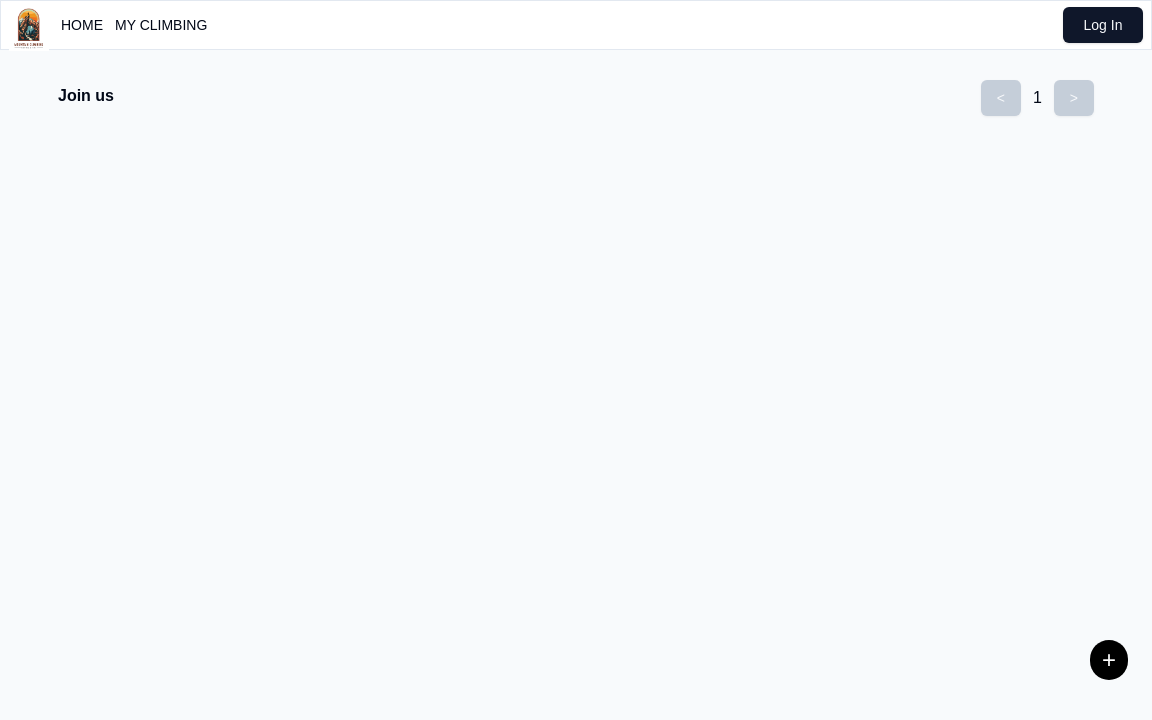
Test case: sign up fail › should show error with invalid email
Click the button "Log In" at (1103, 25), box x1=1063 y1=7 x2=1143 y2=43
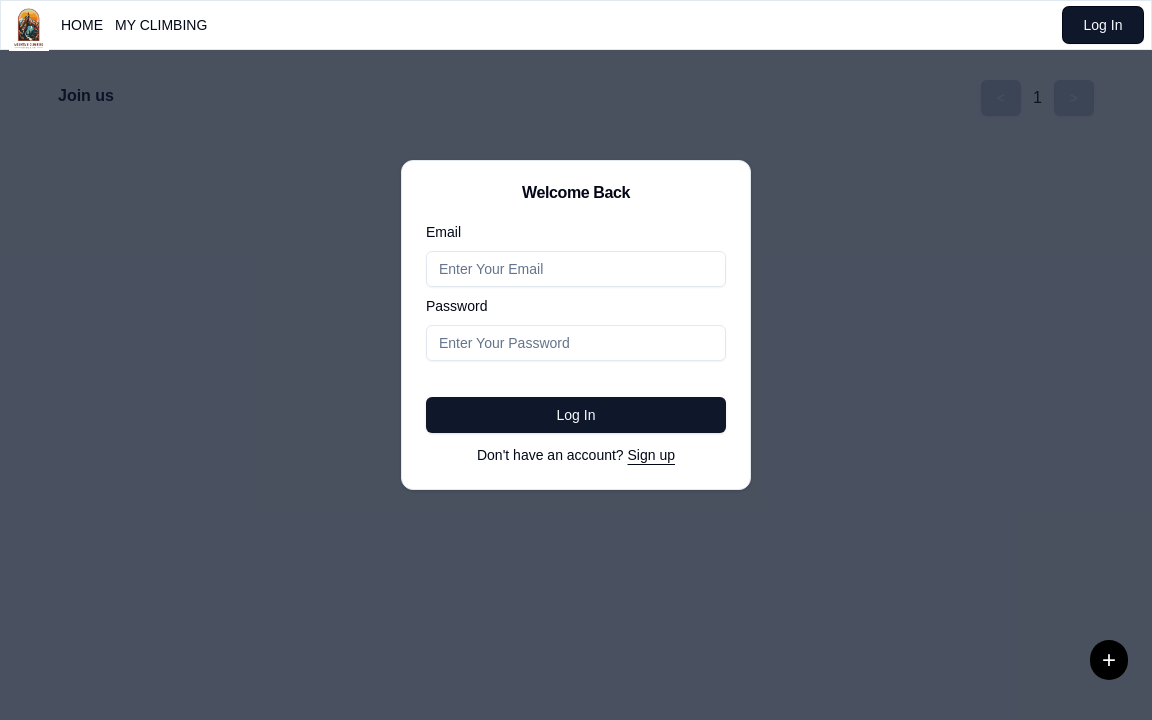
Click the text "Sign up" at (652, 455), box x1=628 y1=447 x2=676 y2=463
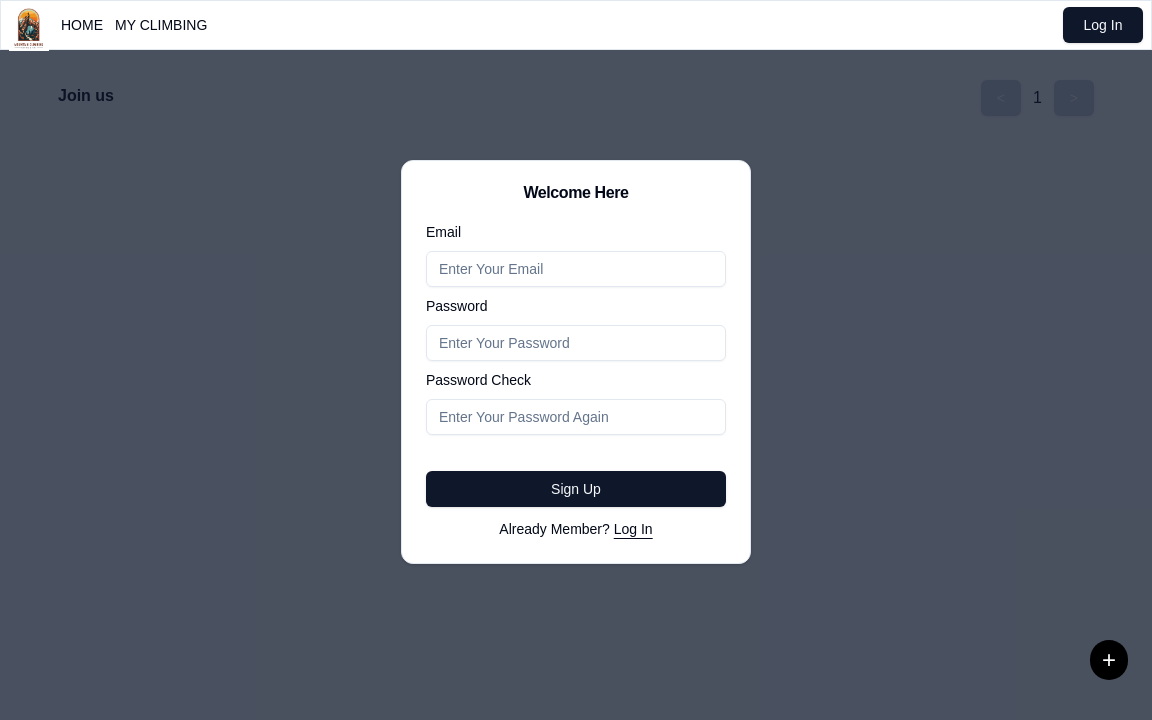
Type "invalid" into the field with id "email" at (576, 269), box x1=426 y1=251 x2=726 y2=287
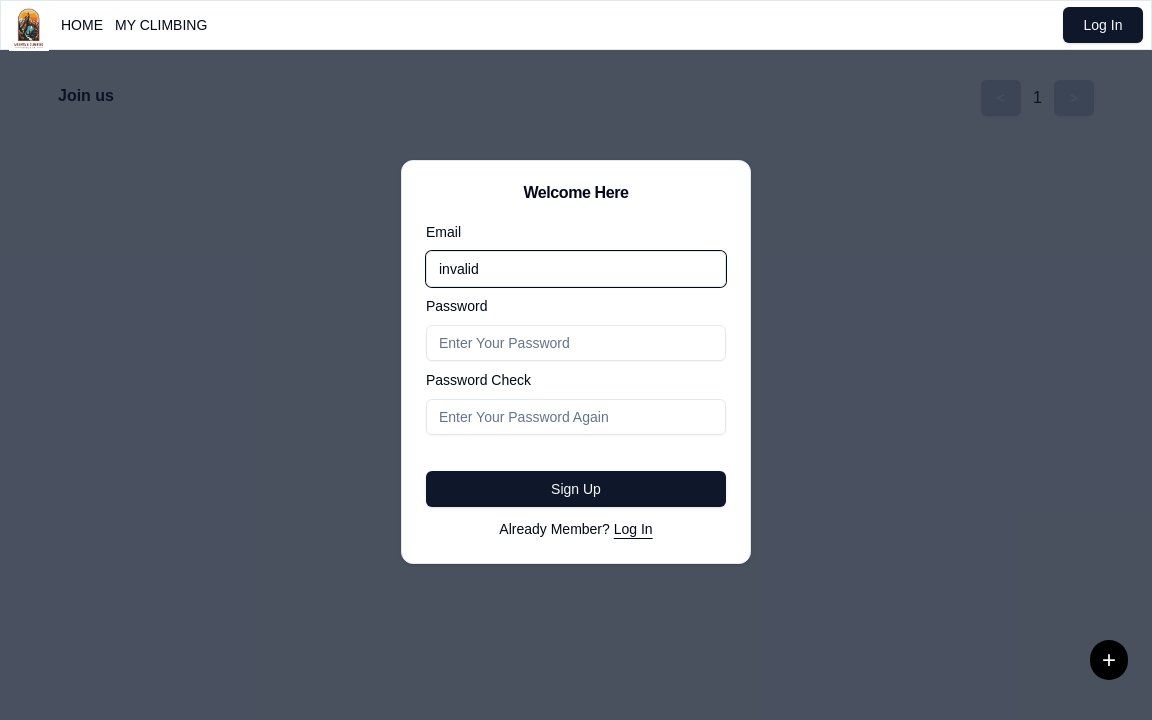
Click the button with class "inline-flex" showing "Sign Up" at (576, 489), box x1=426 y1=471 x2=726 y2=507
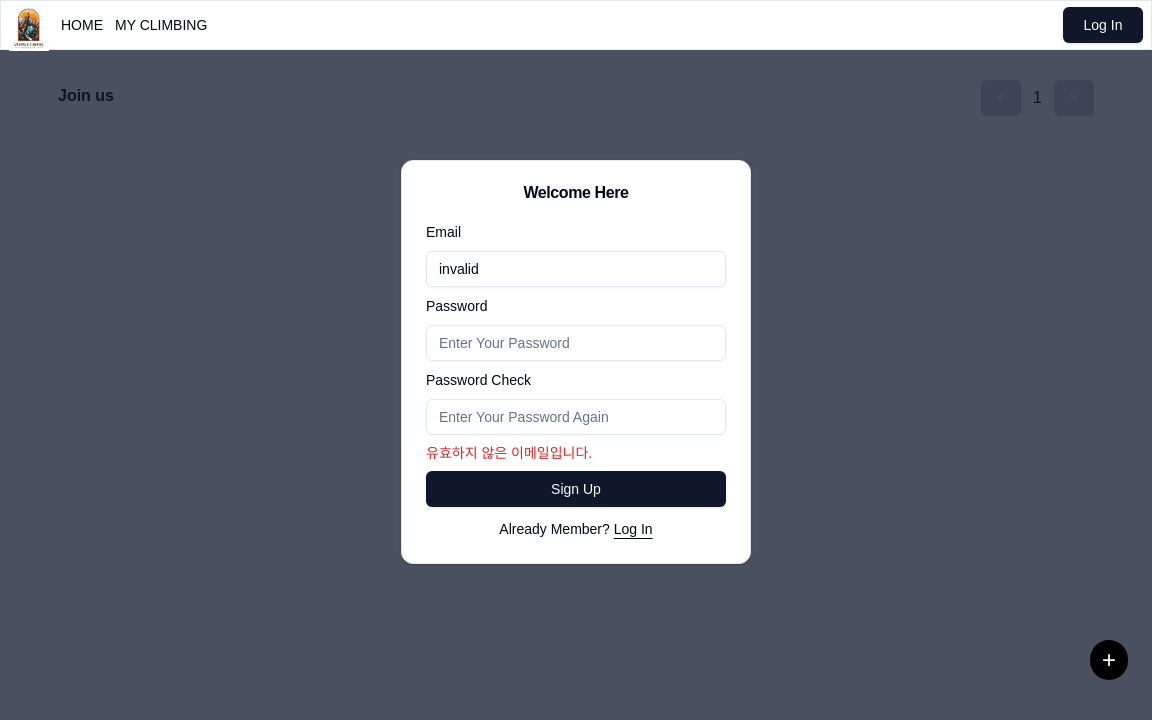
Result: the text "유효하지 않은 이메일" is shown at x1=426 y1=445 x2=592 y2=461
